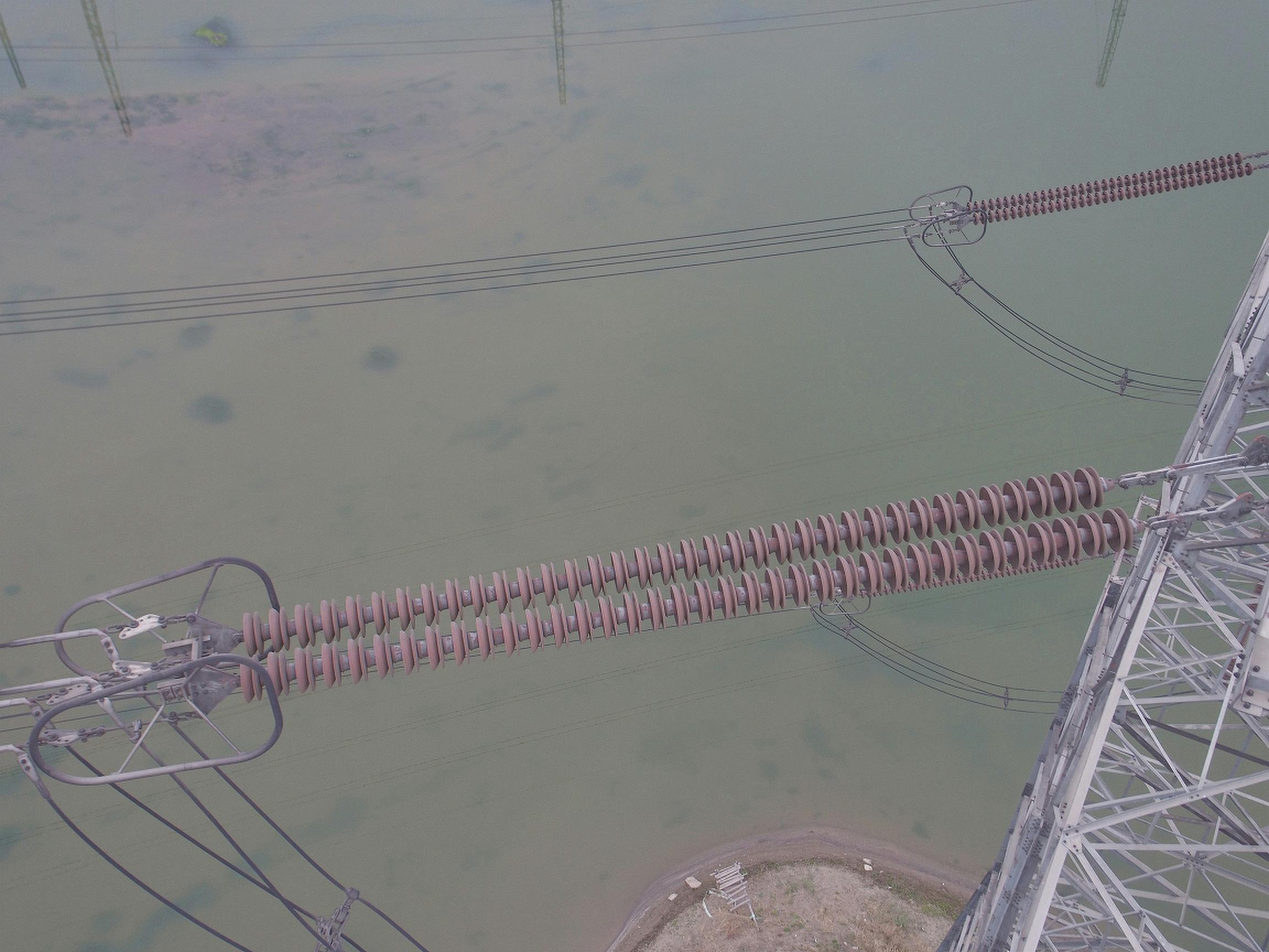insulator: (232, 462, 1141, 706), (963, 149, 1255, 228)
